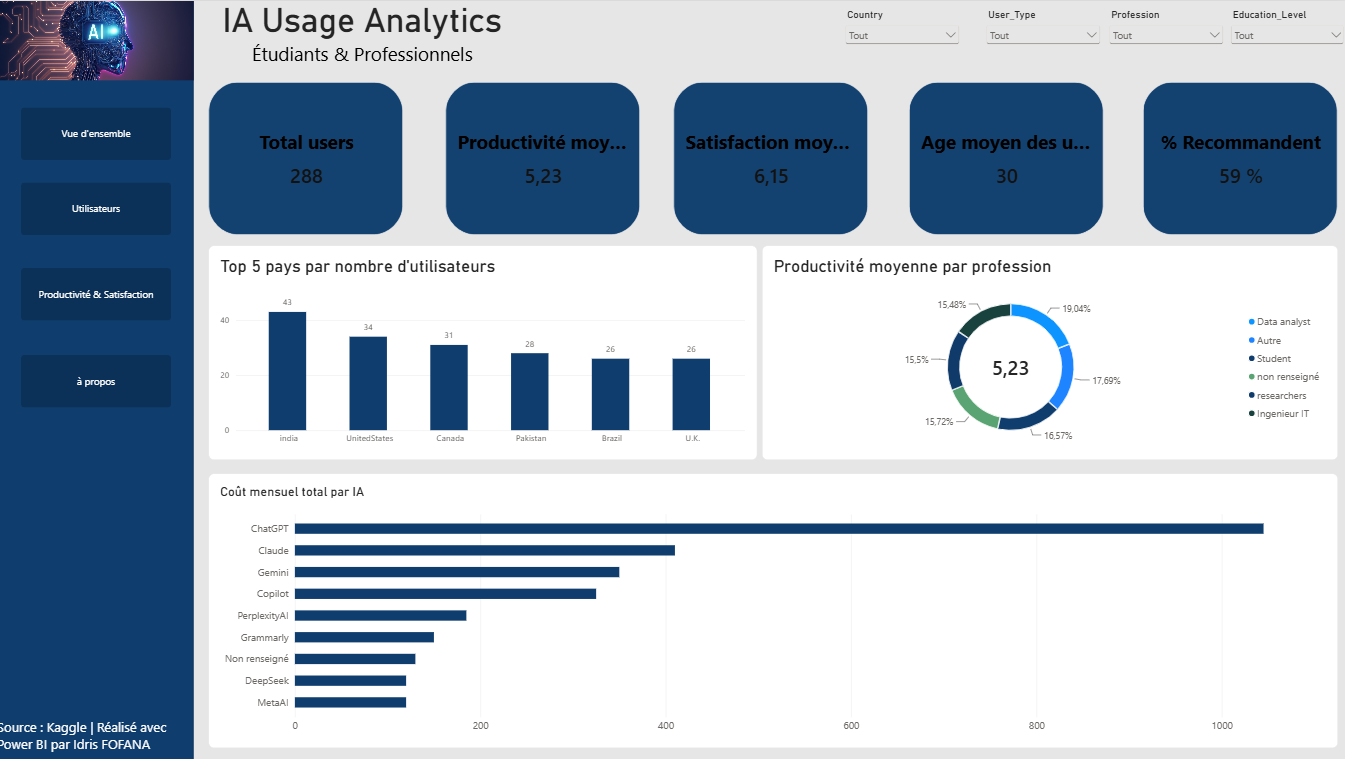

Layout of this report page (visuals, bound fields, positions):
{"tool":"powerbi","page":{"name":"Vue d'ensemble","canvas":[1920,1080],"ordinal":0},"visuals":[{"type":"shape","box":[0,0,279.1,1080],"z":0},{"type":"textbox","title":"IA Usage Analytics","box":[279.1,0,479.3,151.2],"z":1000},{"type":"slicer","fields":{"Values":["AI_Usage.Country"]},"box":[1199.3,10.7,172.5,104.4],"z":2000},{"type":"slicer","fields":{"Values":["AI_Usage.User_Type"]},"box":[1399.5,10.7,172.5,104.4],"z":3000},{"type":"slicer","fields":{"Values":["AI_Usage.Education_Level1"]},"box":[1746.8,10.7,172.5,104.4],"z":4000},{"type":"slicer","fields":{"Values":["AI_Usage.Profession"]},"box":[1574.2,10.7,172.5,104.4],"z":5000},{"type":"cardVisual","title":"Utilisateurs","fields":{"Data":["AI_Usage.Total users"]},"box":[300.4,115,276.9,217.3],"z":6000},{"type":"donutChart","title":"Productivité moyenne par profession","fields":{"Category":["AI_Usage.Profession 1"],"Y":["AI_Usage.Productivité moyenne"]},"box":[1086.4,347.2,818,304.6],"z":7000},{"type":"columnChart","title":"Top 5 pays par nombre d''utilisateurs","fields":{"Category":["AI_Usage.Country"],"Y":["AI_Usage.Total users"]},"box":[300.4,347.2,779.6,304.6],"z":8000},{"type":"cardVisual","title":"Utilisateurs","fields":{"Data":["AI_Usage.Productivité moyenne"]},"box":[636.9,115,276.9,217.3],"z":9000},{"type":"cardVisual","title":"Utilisateurs","fields":{"Data":["AI_Usage.Satisfaction moyenne"]},"box":[960.7,115,276.9,217.3],"z":10000},{"type":"cardVisual","title":"Utilisateurs","fields":{"Data":["AI_Usage.Age moyen des utilisatuers"]},"box":[1295.2,115,276.9,217.3],"z":11000},{"type":"cardVisual","title":"Utilisateurs","fields":{"Data":["AI_Usage.% Recommandent"]},"box":[1627.5,115,276.9,217.3],"z":12000},{"type":"barChart","title":"Coût mensuel total par IA","fields":{"Category":["AI_Usage.AI_Tool"],"Y":["Sum(AI_Usage.Monthly_AI_Cost)"]},"box":[300.4,671,1604,389.8],"z":13000},{"type":"actionButton","title":"Utilisateurs","box":[34.1,257.8,213,74.6],"z":14000},{"type":"actionButton","title":"Utilisateurs","box":[34.1,151.2,213,74.6],"z":15000},{"type":"actionButton","title":"Utilisateurs","box":[34.1,379.2,213,74.6],"z":16000},{"type":"actionButton","title":"Utilisateurs","box":[34.1,502.7,213,74.6],"z":17000},{"type":"image","box":[0,0,279.1,112.9],"z":18000},{"type":"textbox","box":[0,1018.2,279.1,61.8],"z":18001}]}

Visuals, with their boxes on the page's 1920x1080 design canvas (x1, y1, x2, y2). These are canvas units, not pixel positions in the 1345x759 screenshot, which may show the page scaled, cropped or inside an application window:
shape: [left=0, top=0, right=279, bottom=1080]
"IA Usage Analytics" textbox: [left=279, top=0, right=758, bottom=151]
slicer - AI_Usage.Country: [left=1199, top=11, right=1372, bottom=115]
slicer - AI_Usage.User_Type: [left=1400, top=11, right=1572, bottom=115]
slicer - AI_Usage.Education_Level1: [left=1747, top=11, right=1919, bottom=115]
slicer - AI_Usage.Profession: [left=1574, top=11, right=1747, bottom=115]
"Utilisateurs" cardVisual: [left=300, top=115, right=577, bottom=332]
"Productivité moyenne par profession" donutChart: [left=1086, top=347, right=1904, bottom=652]
"Top 5 pays par nombre d''utilisateurs" columnChart: [left=300, top=347, right=1080, bottom=652]
"Utilisateurs" cardVisual: [left=637, top=115, right=914, bottom=332]
"Utilisateurs" cardVisual: [left=961, top=115, right=1238, bottom=332]
"Utilisateurs" cardVisual: [left=1295, top=115, right=1572, bottom=332]
"Utilisateurs" cardVisual: [left=1628, top=115, right=1904, bottom=332]
"Coût mensuel total par IA" barChart: [left=300, top=671, right=1904, bottom=1061]
"Utilisateurs" actionButton: [left=34, top=258, right=247, bottom=332]
"Utilisateurs" actionButton: [left=34, top=151, right=247, bottom=226]
"Utilisateurs" actionButton: [left=34, top=379, right=247, bottom=454]
"Utilisateurs" actionButton: [left=34, top=503, right=247, bottom=577]
image: [left=0, top=0, right=279, bottom=113]
textbox: [left=0, top=1018, right=279, bottom=1080]
